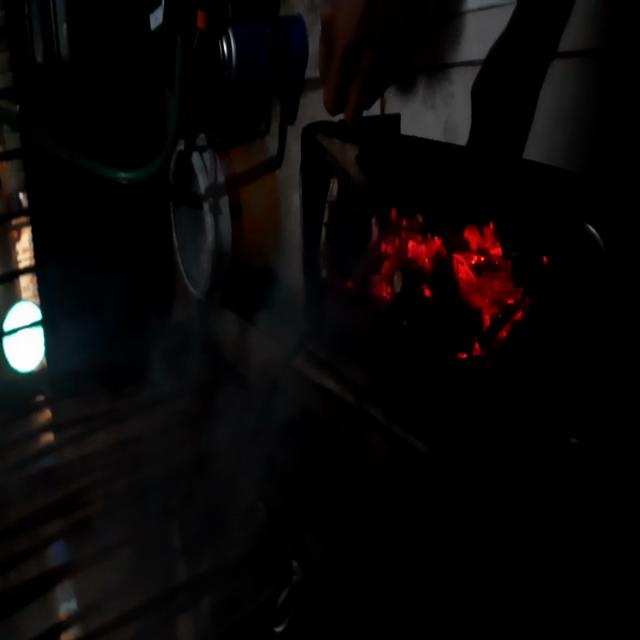Fire: (371, 198, 526, 380)
